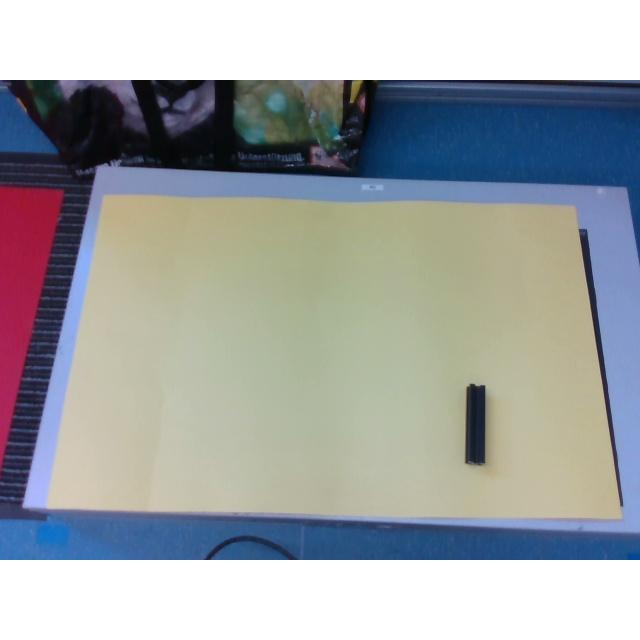F20_20_B: (465, 382, 485, 462)
